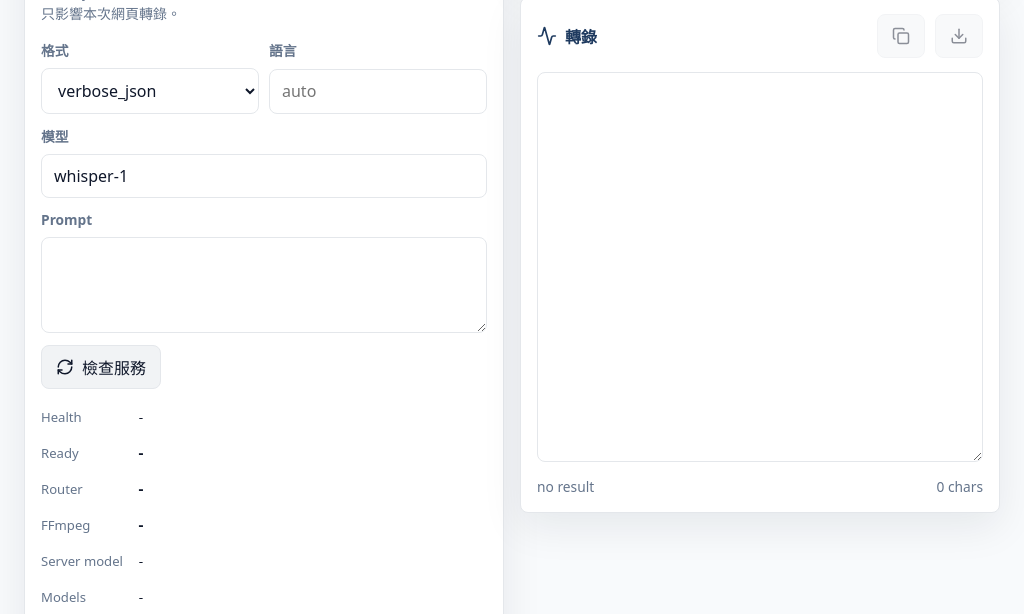
Test case: App voice loading lifecycle › ignores diagnostic results that resolve after unmount
This screenshot has width=1024, height=614.
(page scrolled)
Click the button "檢查服務" at x=101, y=367, box [41, 345, 161, 389]
(page scrolled)
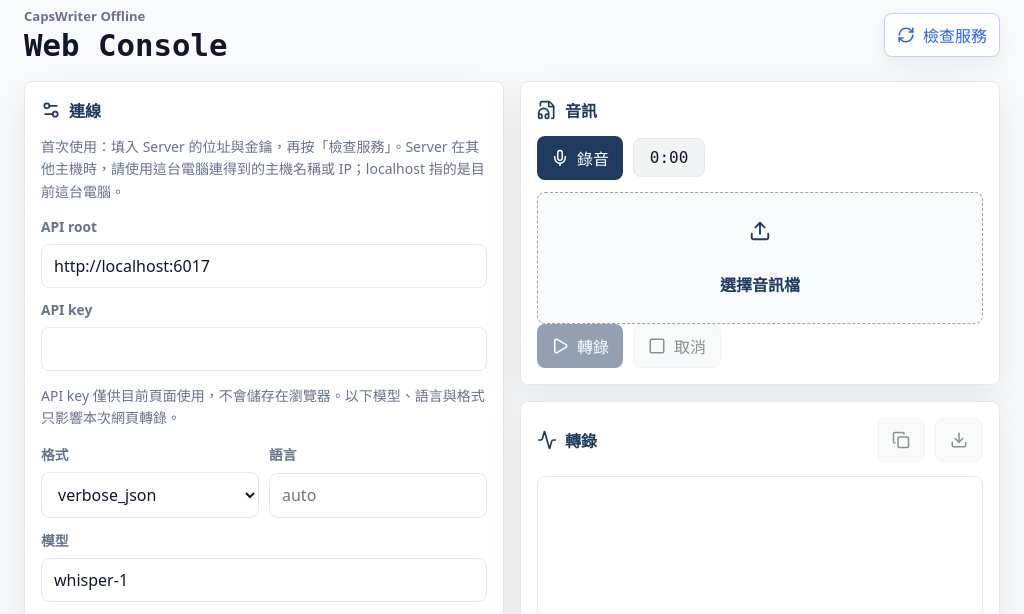
Now the text "檢查服務" is shown, box [923, 23, 987, 47]
